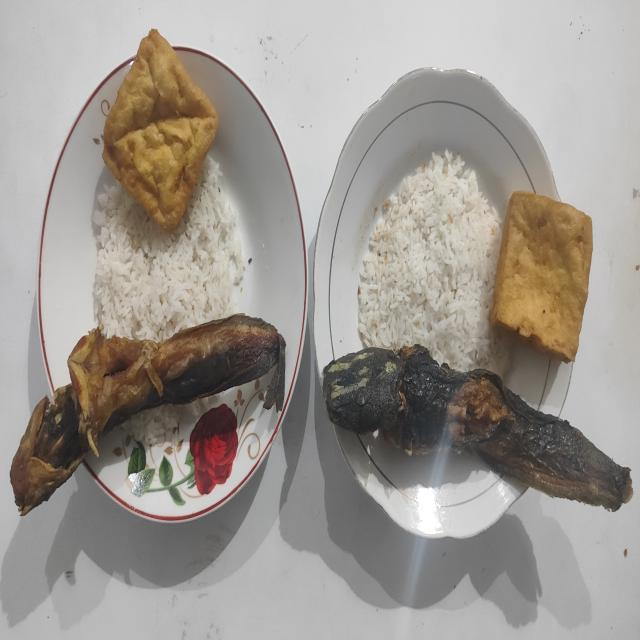nasi_putih: (358, 150, 510, 376), (93, 158, 250, 341), (126, 405, 182, 451)
tahu_goreng: (102, 30, 218, 232), (490, 191, 592, 361)
